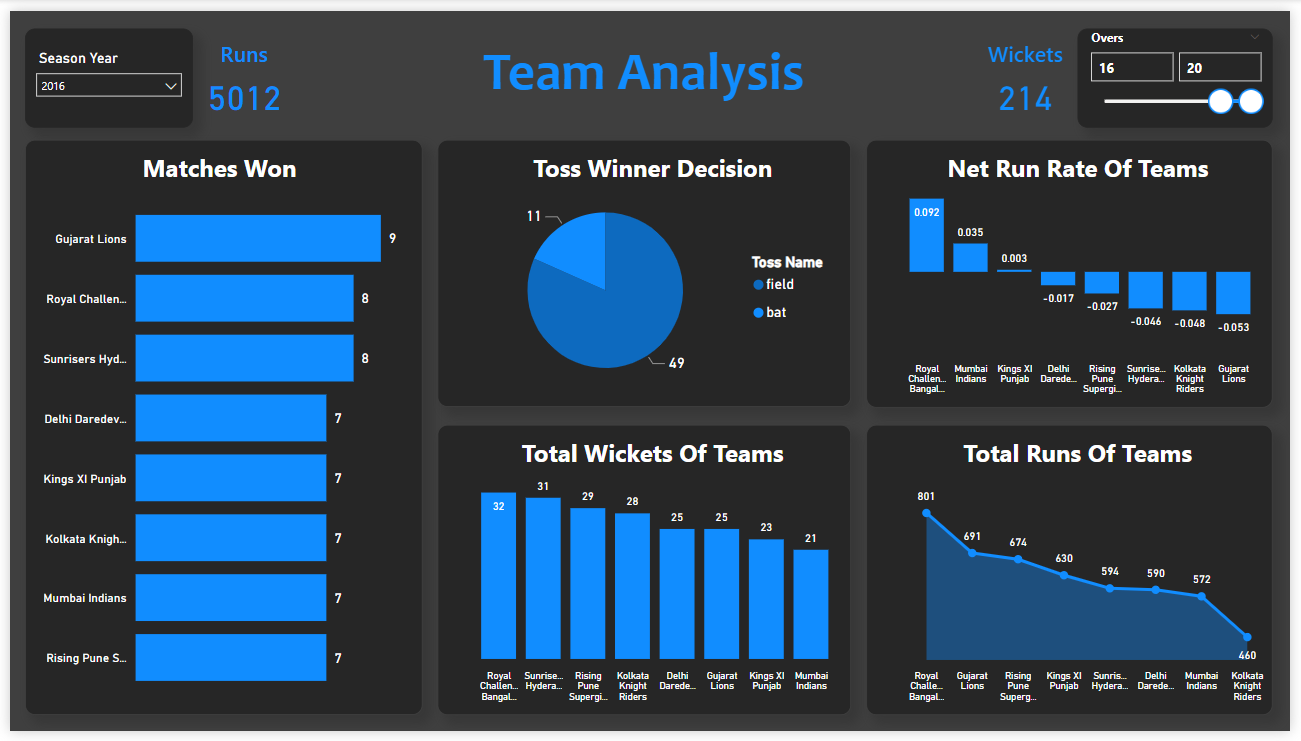

Layout of this report page (visuals, bound fields, positions):
{"tool":"powerbi","page":{"name":"Team Analysis","canvas":[1280,720],"ordinal":1},"visuals":[{"type":"pieChart","title":"Toss Winner Decision","fields":{"Category":["Match.Toss_Name"],"Y":["CountNonNull(Match.Toss_Winner)"]},"box":[427.5,128.8,413.8,267.5],"z":0},{"type":"slicer","fields":{"Values":["Match.Season_Year"]},"box":[15.6,17.8,167.8,98.9],"z":1000},{"type":"barChart","title":"Matches Won","fields":{"Category":["Team.Team_Name"],"Y":["CountNonNull(Match.match_winner)"]},"box":[15,128.8,397.5,575],"z":2000},{"type":"columnChart","title":"Total Wickets Of Teams","fields":{"Category":["Team1.Team_Name"],"Y":["Sum(Ball_By_Ball.Bowler_Wicket)"]},"box":[427.5,413.8,413.8,290],"z":3000},{"type":"card","title":"Runs","fields":{"Values":["Ball_By_Ball.Total Runs"]},"box":[183.3,17.8,101.1,98.9],"z":4000},{"type":"slicer","fields":{"Values":["Ball_By_Ball.Over_id"]},"box":[1067.8,17.8,195.6,98.9],"z":5000},{"type":"areaChart","title":"Total Runs Of Teams","fields":{"Category":["Team.Team_Name"],"Y":["Ball_By_Ball.Total Runs"]},"box":[856.7,413.3,406.7,290],"z":6000},{"type":"card","title":"Wickets","fields":{"Values":["Ball_By_Ball.Count Of Wickets"]},"box":[962.2,17.8,105.6,98.9],"z":7000},{"type":"columnChart","title":"Net Run Rate Of Teams","fields":{"Y":["Ball_By_Ball.Net Run Rate"],"Category":["Team.Team_Name"]},"box":[856.7,128.9,406.7,267.8],"z":8000},{"type":"textbox","box":[422.2,17.8,422.2,98.9],"z":9000}]}

Visuals, with their boxes in screenshot pixels (x1, y1, x2, y2), scaled from the page's 1280x720 canvas onto the 1301x741 screenshot:
"Toss Winner Decision" pieChart: [left=435, top=133, right=855, bottom=408]
slicer - Match.Season_Year: [left=16, top=18, right=186, bottom=120]
"Matches Won" barChart: [left=15, top=133, right=419, bottom=724]
"Total Wickets Of Teams" columnChart: [left=435, top=426, right=855, bottom=724]
"Runs" card: [left=186, top=18, right=289, bottom=120]
slicer - Ball_By_Ball.Over_id: [left=1085, top=18, right=1284, bottom=120]
"Total Runs Of Teams" areaChart: [left=871, top=425, right=1284, bottom=724]
"Wickets" card: [left=978, top=18, right=1085, bottom=120]
"Net Run Rate Of Teams" columnChart: [left=871, top=133, right=1284, bottom=408]
textbox: [left=429, top=18, right=858, bottom=120]
